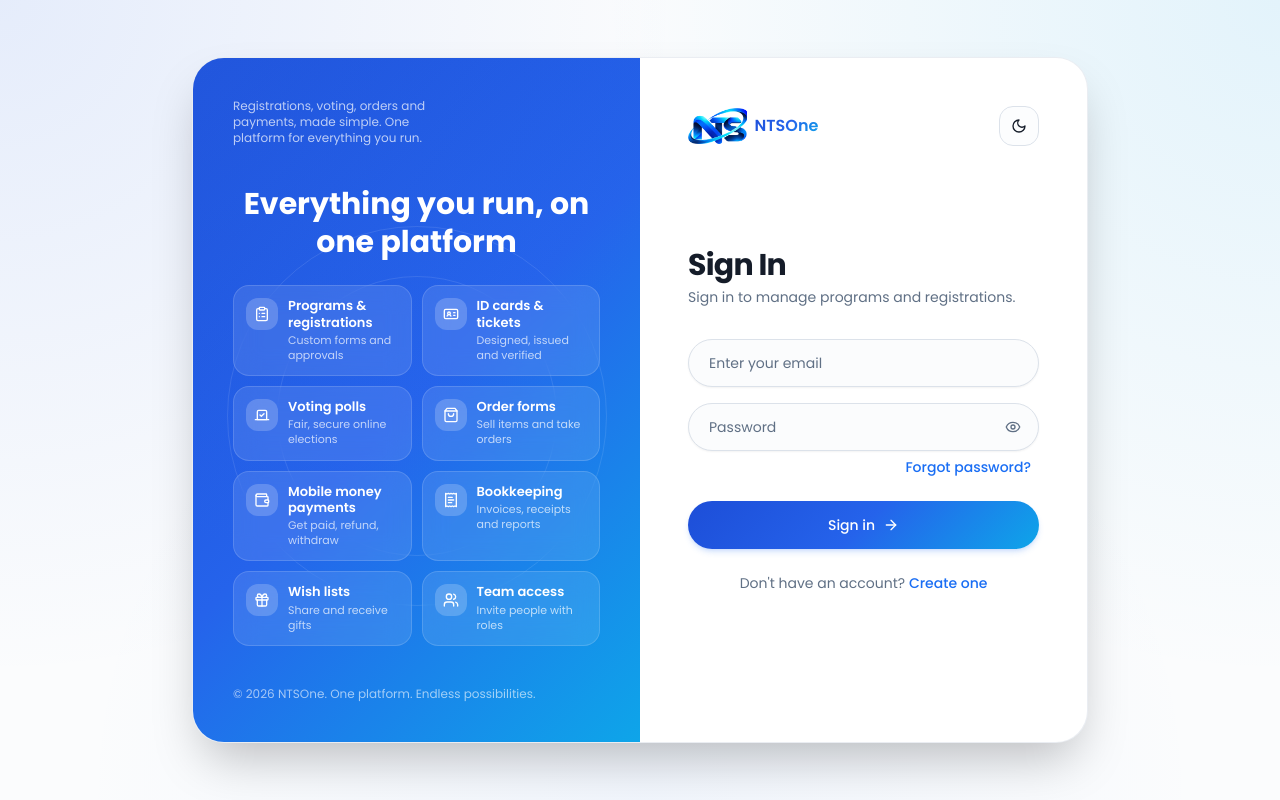
it: the sign-in form says exactly what is wrong › asks for each missing piece in words
Click the button "Sign in" at coordinates (864, 525), box 688,501 -> 1039,549
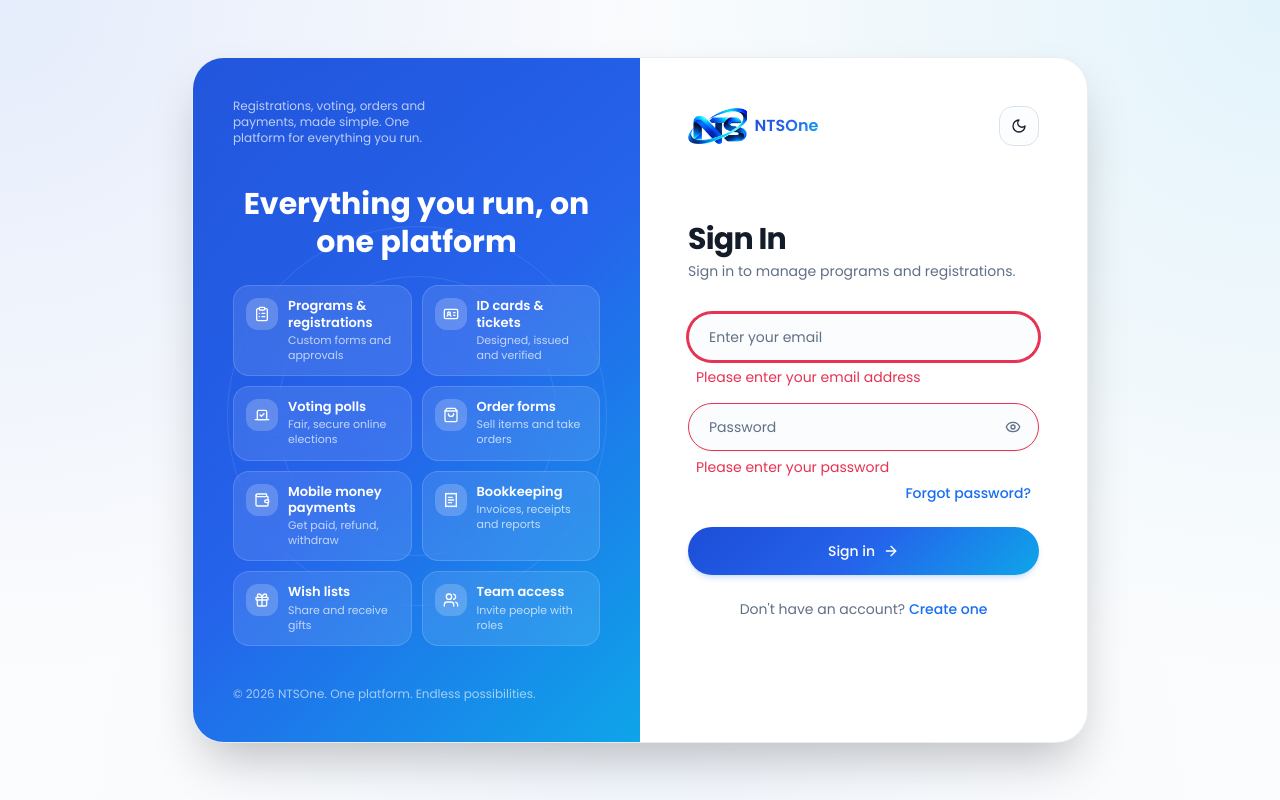
Now the text "Please enter your email address" is shown, box 696,367 -> 921,387
Now the text "Please enter your password" is shown, box 696,457 -> 889,477
